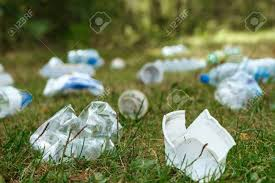plastic_bottle: (160, 109, 238, 182)
